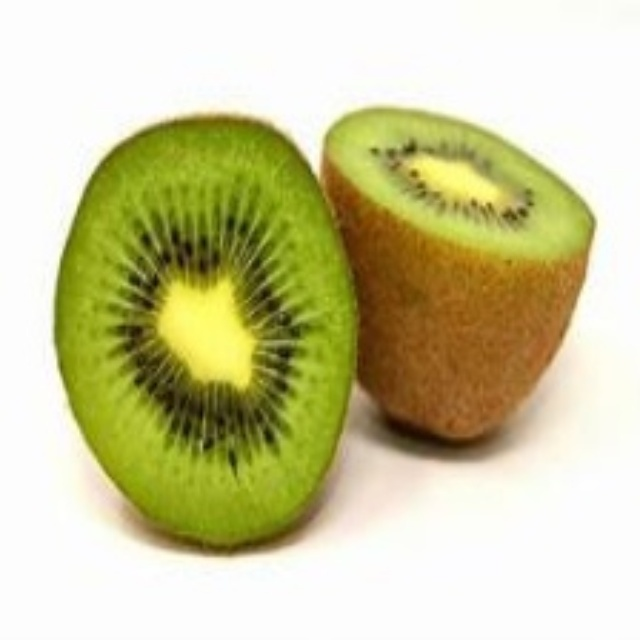kiwi: (50, 111, 369, 549), (312, 102, 584, 448)
